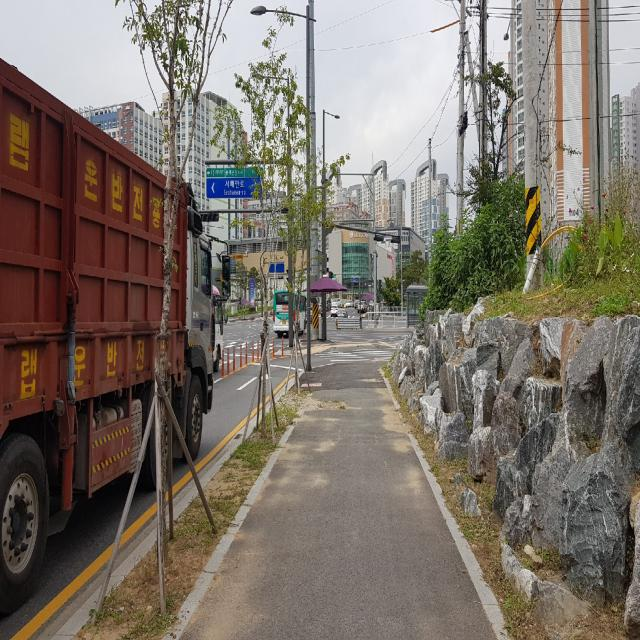횡단보도: (313, 350, 395, 362)
